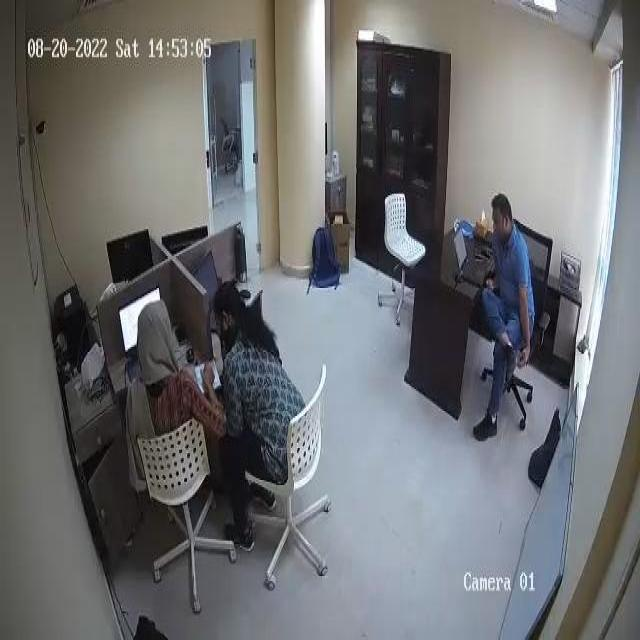bare_hand: (199, 352, 222, 399), (516, 340, 537, 377)
